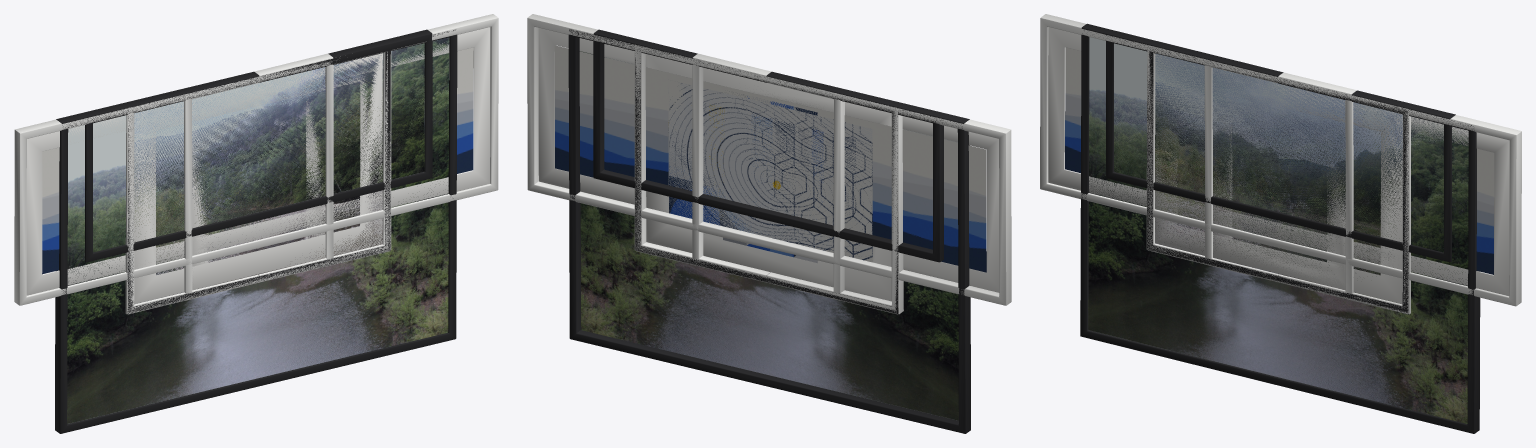
Rendered from hotel-wall-art.glb.
The picture shows the model from 3 angles, left to right: view 1: azimuth 30°, elevation 25°; view 2: azimuth 150°, elevation 25°; view 3: azimuth 330°, elevation 25°; orthographic projection.
Parts seen in each view (by area): view 1: lobby_print, corr1_print, head_mat, lobby_frame, head_frame, corr2_mat, tv_print, tv_frame, entry_frame, head_print, entry_mat, corr0_mat (+11 smaller); view 2: lobby_print, corr3_print, head_print, lobby_frame, head_frame, corr0_print, head_mat, tv_frame, entry_frame, corr0_mat, corr7_mat, corr2_frame (+13 smaller); view 3: lobby_print, corr5_print, corr1_print, head_mat, lobby_frame, head_frame, corr0_mat, tv_frame, corr3_mat, head_print, entry_frame, entry_mat (+9 smaller).
Part boxes in pixels (left/top/right/bottom): lobby_print: left=67, top=37, right=449, bottom=423; corr1_print: left=134, top=62, right=383, bottom=299; head_mat: left=26, top=27, right=490, bottom=295; lobby_frame: left=55, top=29, right=457, bottom=433; head_frame: left=14, top=14, right=498, bottom=305; corr2_mat: left=134, top=88, right=382, bottom=304; tv_print: left=93, top=78, right=424, bottom=246; tv_frame: left=85, top=29, right=432, bottom=262; entry_frame: left=184, top=53, right=333, bottom=300; head_print: left=42, top=47, right=473, bottom=274; entry_mat: left=192, top=91, right=325, bottom=290; corr0_mat: left=134, top=65, right=382, bottom=272; lobby_print: left=580, top=51, right=958, bottom=420; corr3_print: left=668, top=82, right=872, bottom=261; head_print: left=554, top=45, right=986, bottom=272; lobby_frame: left=568, top=29, right=970, bottom=433; head_frame: left=527, top=14, right=1011, bottom=305; corr0_print: left=673, top=95, right=872, bottom=262; head_mat: left=538, top=28, right=999, bottom=292; tv_frame: left=593, top=29, right=943, bottom=262; entry_frame: left=692, top=53, right=844, bottom=300; corr0_mat: left=646, top=54, right=891, bottom=271; corr7_mat: left=646, top=85, right=891, bottom=300; corr2_frame: left=635, top=49, right=897, bottom=311; lobby_print: left=1088, top=37, right=1468, bottom=423; corr5_print: left=1155, top=54, right=1402, bottom=298; corr1_print: left=1155, top=59, right=1402, bottom=275; head_mat: left=1048, top=27, right=1509, bottom=295; lobby_frame: left=1080, top=23, right=1480, bottom=433; head_frame: left=1040, top=14, right=1521, bottom=306; corr0_mat: left=1155, top=92, right=1402, bottom=303; tv_frame: left=1106, top=38, right=1455, bottom=262; corr3_mat: left=1155, top=70, right=1402, bottom=289; head_print: left=1065, top=47, right=1494, bottom=274; entry_frame: left=1204, top=65, right=1356, bottom=293; entry_mat: left=1213, top=108, right=1345, bottom=285.
Size of the model in its own units: 1.45 by 0.9045 by 0.03.
Materials: 15 (12 with a texture image).
